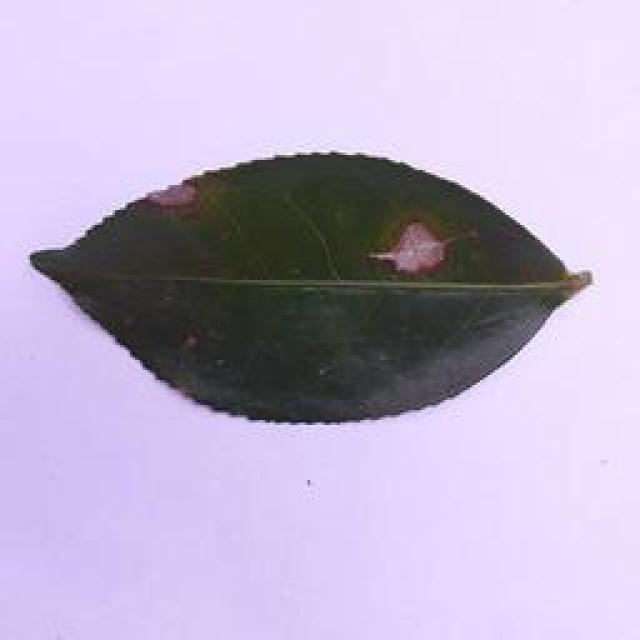Gray Blight: (27, 150, 596, 426)
